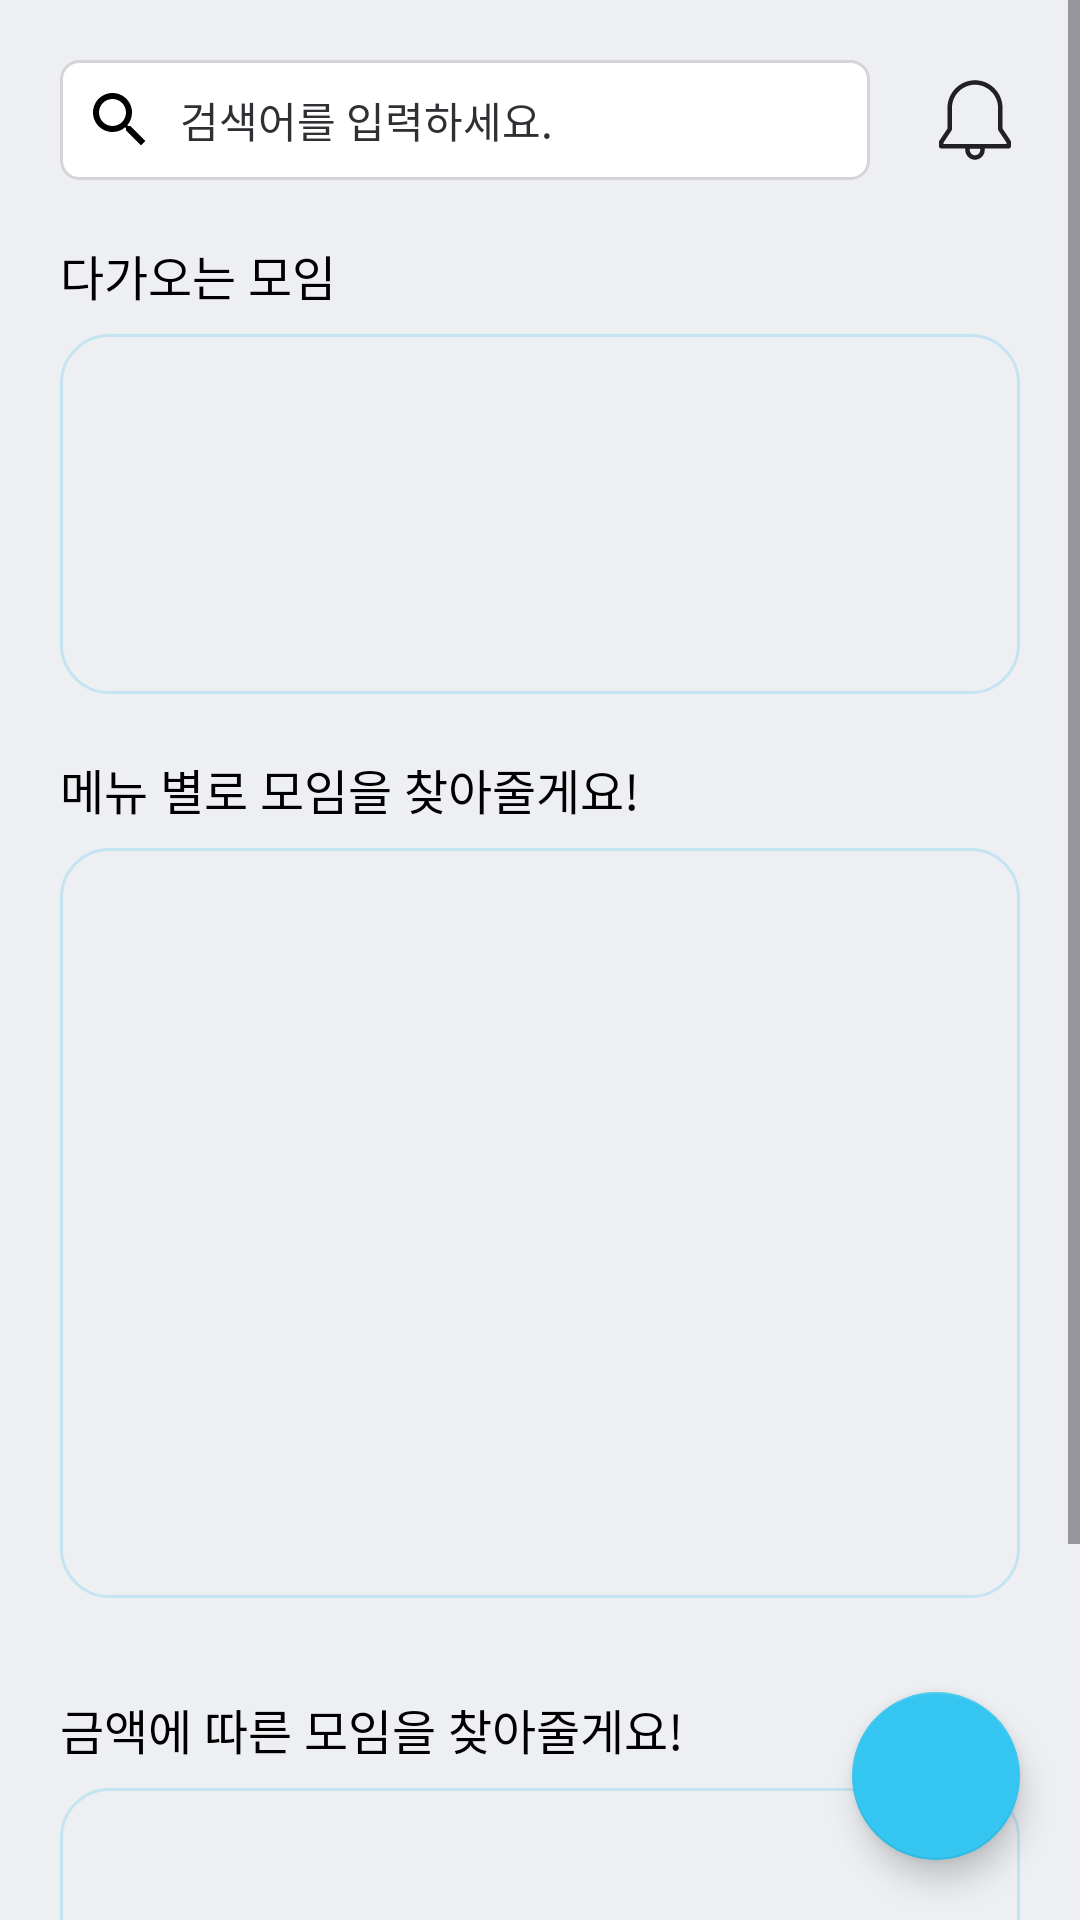

Icons on this 1080 × 1920 Android screen, each with the point to tap as [x,y]:
puch: [975,120]
search: [119,119]
